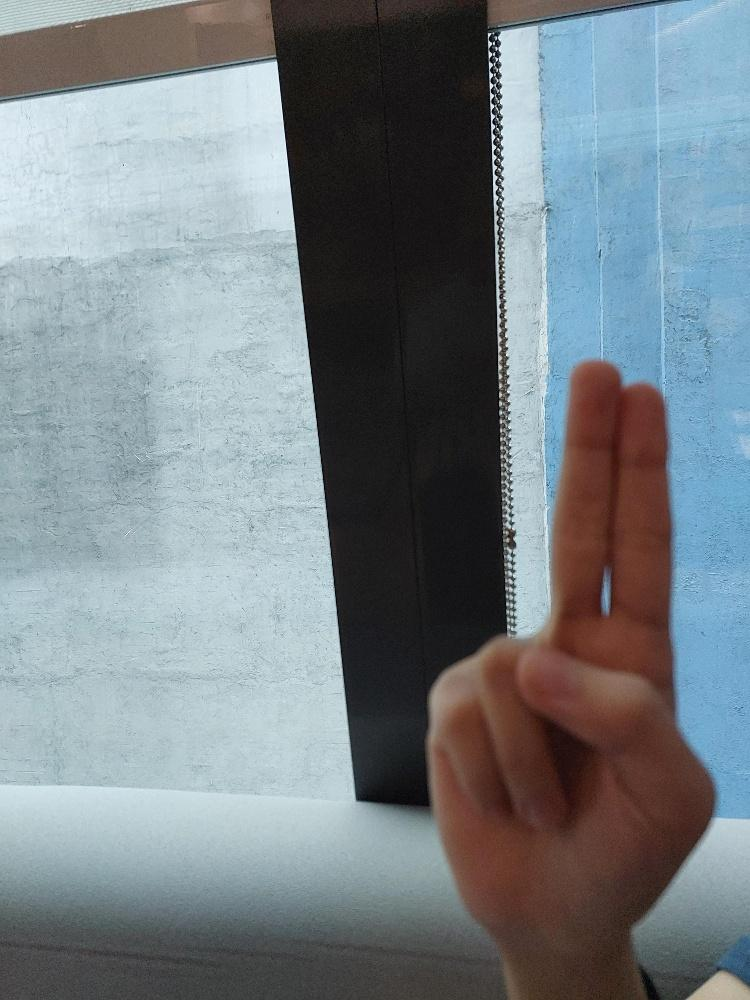u: (422, 357, 719, 931)
